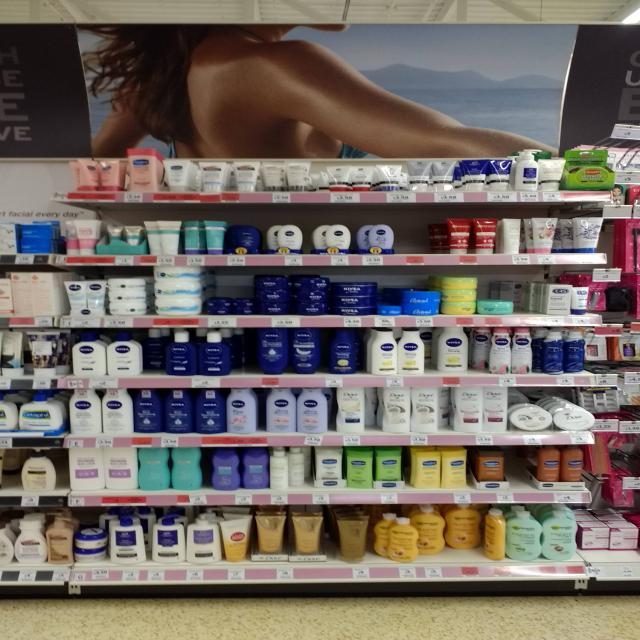unorganised: (259, 327, 356, 374), (256, 272, 328, 318), (418, 507, 479, 557), (372, 514, 417, 564), (70, 156, 125, 192), (334, 387, 379, 431), (225, 388, 268, 433), (17, 450, 59, 495), (432, 326, 471, 374), (145, 218, 179, 256), (483, 507, 506, 561), (286, 447, 312, 490), (143, 330, 167, 373), (260, 157, 287, 192), (374, 162, 403, 192), (501, 217, 523, 255), (179, 218, 202, 254), (470, 329, 490, 370), (66, 277, 87, 314), (436, 387, 452, 432), (506, 281, 530, 304), (63, 219, 76, 257)
